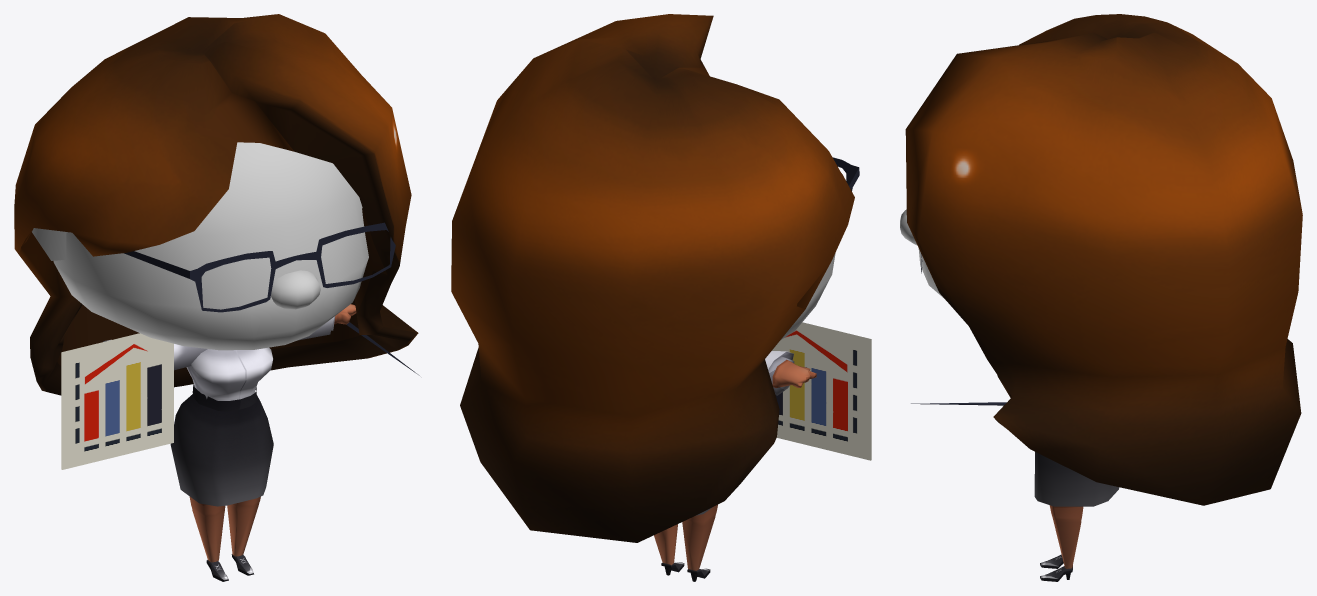
The model's file is Char_Sci_Math_01.fbx.
The picture shows the model from 3 angles, left to right: view 1: azimuth 30°, elevation 25°; view 2: azimuth 150°, elevation 25°; view 3: azimuth 270°, elevation 25°; orthographic projection. The views are drawn at different scales.
Parts seen in each view (by area): view 1: Hair_Statistician, Head_Statistician, Magic_Paper_Statistician, Skirt_Statistician, Body_Statistician, Spectacle_Statistician, R_Leg_Statistician, Nose_Statistician, L_Leg_Statistician, R_Ear_Statistician, Belt_Statistician, L_Arm_Statistician (+1 smaller); view 2: Hair_Statistician, Magic_Paper_Statistician, R_Leg_Statistician, R_Arm_Statistician, L_Leg_Statistician, Head_Statistician; view 3: Hair_Statistician, Skirt_Statistician, L_Leg_Statistician.
Part boxes in pixels (x1,y1,x2,y2): Hair_Statistician: [14, 14, 418, 395]; Head_Statistician: [53, 142, 368, 350]; Magic_Paper_Statistician: [61, 333, 173, 469]; Skirt_Statistician: [170, 392, 273, 506]; Body_Statistician: [186, 347, 272, 400]; Spectacle_Statistician: [124, 222, 395, 312]; R_Leg_Statistician: [189, 497, 228, 581]; Nose_Statistician: [271, 270, 320, 309]; L_Leg_Statistician: [227, 496, 260, 575]; R_Ear_Statistician: [32, 228, 66, 260]; Belt_Statistician: [192, 384, 256, 411]; L_Arm_Statistician: [297, 304, 356, 340]; Hair_Statistician: [451, 14, 854, 542]; Magic_Paper_Statistician: [772, 322, 871, 460]; R_Leg_Statistician: [682, 504, 717, 581]; R_Arm_Statistician: [765, 351, 816, 395]; L_Leg_Statistician: [654, 524, 684, 575]; Head_Statistician: [780, 253, 835, 340]; Hair_Statistician: [905, 14, 1302, 505]; Skirt_Statistician: [1034, 452, 1119, 506]; L_Leg_Statistician: [1040, 505, 1083, 581].
Size of the model in its own units: 5.04 by 7.06 by 4.67.
